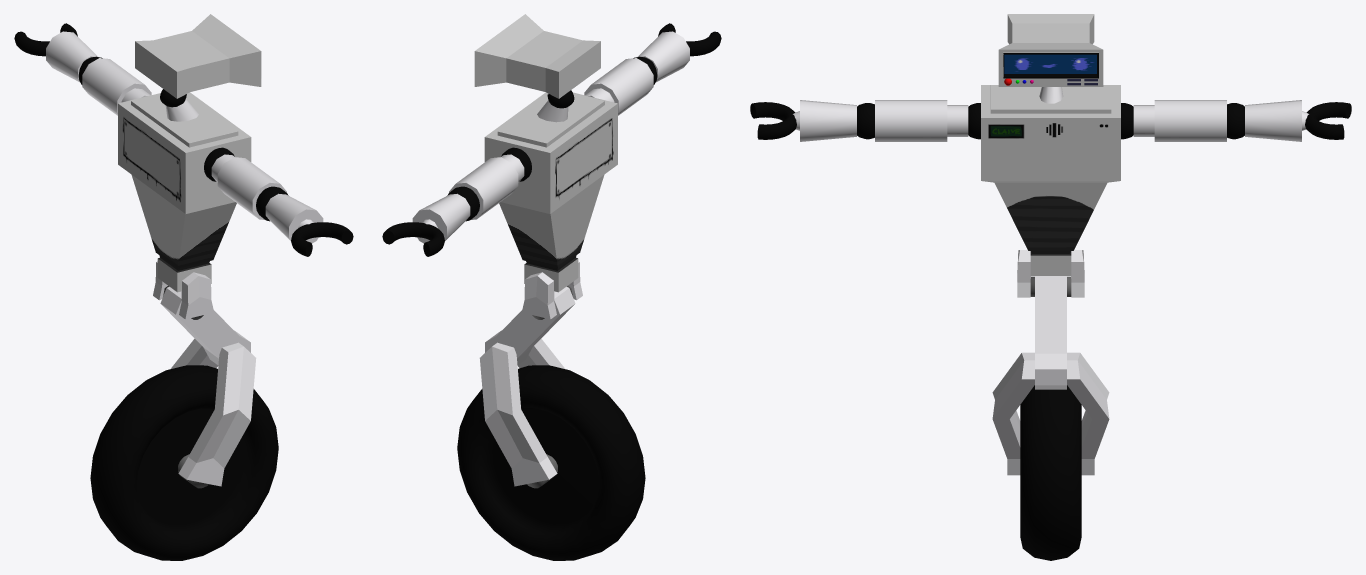
File: service_robot_nina1.fbx
3 renders of one model, left to right at view 1: azimuth 30°, elevation 25°; view 2: azimuth 150°, elevation 25°; view 3: azimuth 270°, elevation 25°, orthographic. The views are drawn at different scales.
Visible parts, largest first — view 1: Torus.001, Torso, Head, Cylinder.001, Sphere.009, Sphere.001, Cylinder.002, Cylinder.004, Neck; view 2: Torus.001, Torso, Head, Cylinder.001, Sphere.001, Sphere.009, Cylinder.002, Cylinder.004, Neck; view 3: Torso, Torus.001, Sphere.001, Sphere.009, Head, Cylinder.001, Cylinder.002, Cylinder.004.
Boxes of the visible parts, <box> form: Torus.001: <box>90,365,278,560</box>; Torso: <box>118,92,251,292</box>; Head: <box>135,14,261,98</box>; Cylinder.001: <box>170,338,256,486</box>; Sphere.009: <box>204,147,353,256</box>; Sphere.001: <box>14,23,151,115</box>; Cylinder.002: <box>160,286,250,365</box>; Cylinder.004: <box>153,261,214,319</box>; Neck: <box>165,99,198,121</box>; Torus.001: <box>457,365,645,560</box>; Torso: <box>484,92,617,292</box>; Head: <box>474,14,600,98</box>; Cylinder.001: <box>479,338,565,486</box>; Sphere.001: <box>382,147,531,256</box>; Sphere.009: <box>584,23,721,115</box>; Cylinder.002: <box>485,286,575,365</box>; Cylinder.004: <box>521,261,582,319</box>; Neck: <box>537,100,568,122</box>; Torso: <box>981,85,1120,275</box>; Torus.001: <box>1020,385,1081,560</box>; Sphere.001: <box>1121,100,1351,141</box>; Sphere.009: <box>750,100,980,141</box>; Head: <box>998,14,1103,86</box>; Cylinder.001: <box>992,352,1109,475</box>; Cylinder.002: <box>1035,276,1066,389</box>; Cylinder.004: <box>1017,250,1084,297</box>.
Bounding box in the file's own units: 158 × 435 × 450.
Materials: 10 (2 with a texture image).
